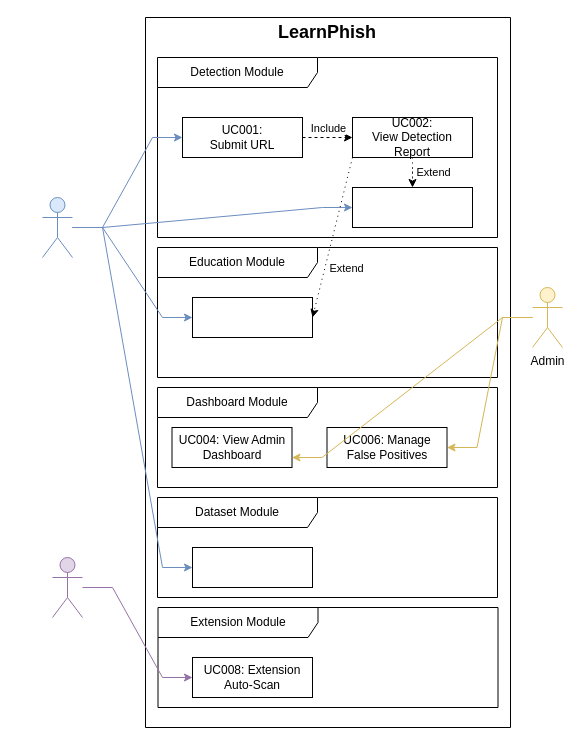
Some shapes in this 582 by 745 pixel diagram are drawn without their labels. Here are the shapes that lost their labels. From the top down, the centre of each, then its label:
At pixel 57 227: "User".
At pixel 412 207: "UC003: Submit User Feedback".
At pixel 252 317: "UC005: Take Short Quiz".
At pixel 67 587: "Browser Extension".
At pixel 252 567: "UC007: Explore & Export ML Dataset".
